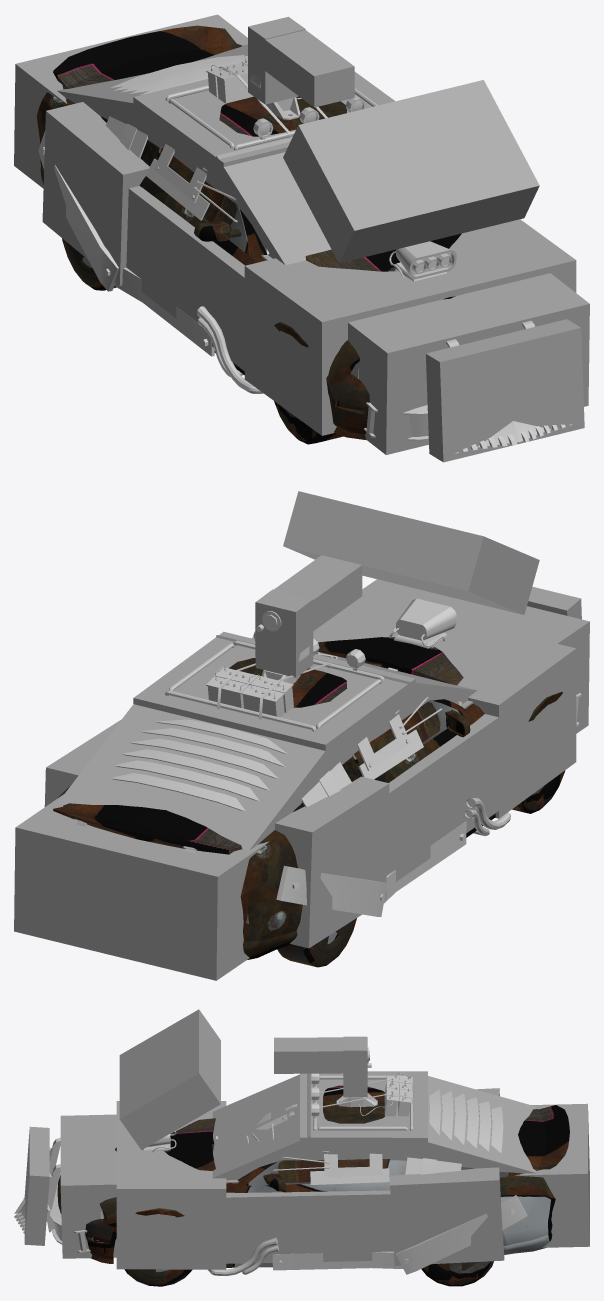
Rendered from mh_vehicle_mustang_gianmarco_collisions_Lights_001.fbx.
3 renders of one model, top to bottom at view 1: azimuth 30°, elevation 25°; view 2: azimuth 150°, elevation 25°; view 3: azimuth 270°, elevation 25°, orthographic. The views are drawn at different scales.
Visible parts, largest first — view 1: pCube12, pCube4, pCube2, CarBody, pCube5, pCube9, pCube3, StaticProtections, pCube7, pCube6, pCube11, pCube8 (+9 smaller); view 2: pCube2, CarBody, pCube4, StaticProtections, pCube12, pCube8, pCube3, pCube6, pCube9, pCube10, pCube11, BodyProtection_R (+7 smaller); view 3: CarBody, pCube4, pCube2, pCube9, pCube12, pCube3, StaticProtections, pCube7, pCube6, pCube8, pCube11, pCube5 (+9 smaller).
Boxes of the visible parts, box(x1,y1,x2,y2) form: pCube12: box(283, 80, 539, 263); pCube4: box(244, 219, 576, 435); pCube2: box(14, 14, 589, 454); CarBody: box(36, 25, 461, 439); pCube5: box(426, 319, 584, 462); pCube9: box(126, 186, 245, 370); pCube3: box(42, 102, 149, 285); StaticProtections: box(110, 55, 456, 393); pCube7: box(208, 137, 331, 265); pCube6: box(133, 72, 394, 182); pCube11: box(259, 30, 354, 107); pCube8: box(57, 44, 247, 128); pCube2: box(14, 579, 589, 980); CarBody: box(53, 637, 562, 959); pCube4: box(251, 596, 576, 818); StaticProtections: box(110, 598, 510, 836); pCube12: box(283, 491, 539, 614); pCube8: box(57, 704, 335, 850); pCube3: box(44, 719, 389, 948); pCube6: box(133, 631, 415, 773); pCube9: box(387, 714, 499, 881); pCube10: box(255, 589, 313, 677); pCube11: box(274, 555, 362, 630); BodyProtection_R: box(276, 865, 387, 916); CarBody: box(57, 1085, 569, 1267); pCube4: box(116, 1101, 226, 1269); pCube2: box(60, 1103, 589, 1258); pCube9: box(224, 1190, 393, 1263); pCube12: box(119, 1009, 220, 1149); pCube3: box(390, 1088, 504, 1265); StaticProtections: box(101, 1073, 503, 1275); pCube7: box(212, 1073, 320, 1180); pCube6: box(300, 1071, 427, 1160); pCube8: box(412, 1076, 536, 1173); pCube11: box(274, 1037, 352, 1073); pCube5: box(24, 1126, 49, 1245).
Bounding box in the file's own units: 208 × 205 × 525.
